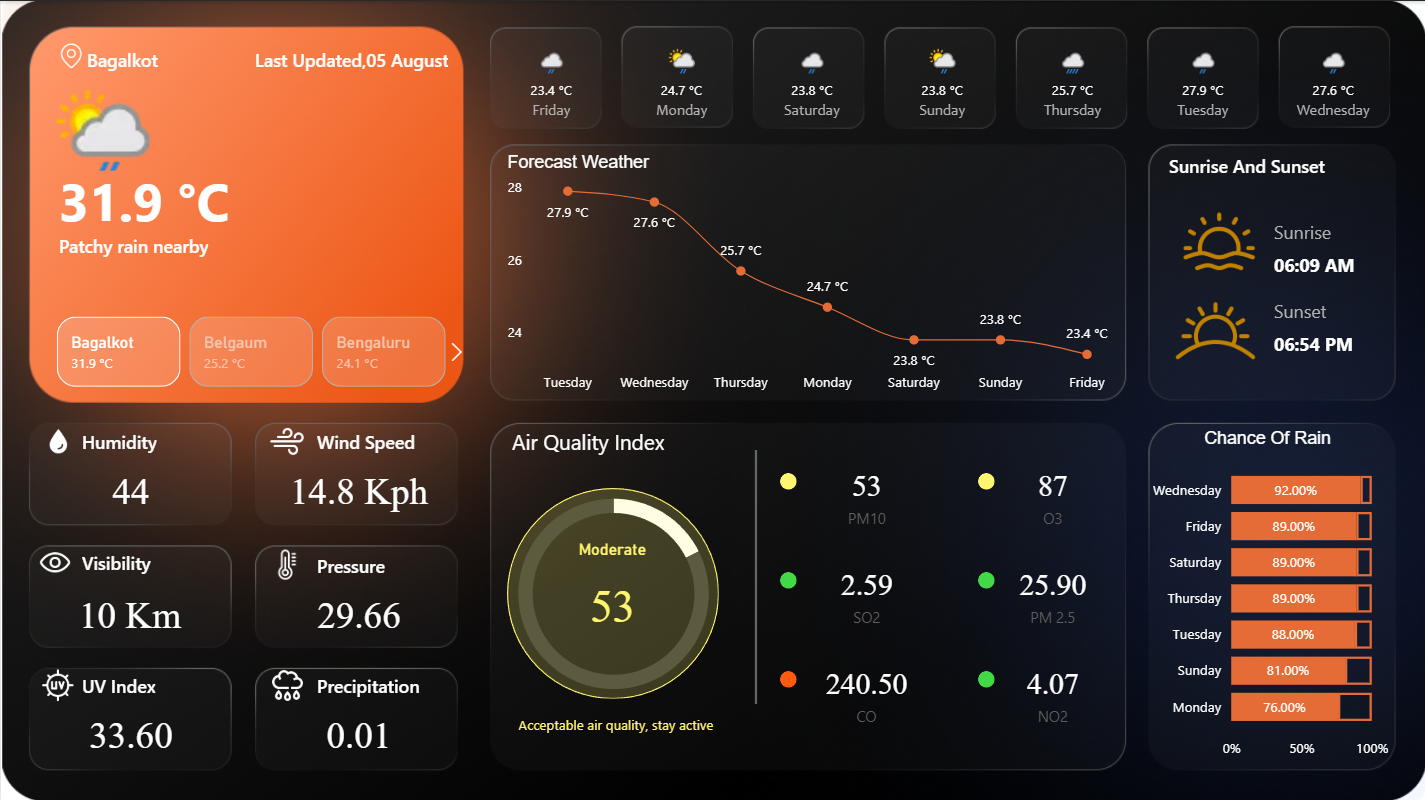

Layout of this report page (visuals, bound fields, positions):
{"tool":"powerbi","page":{"name":"Page 1","canvas":[1280,720],"ordinal":0},"visuals":[{"type":"advancedSlicerVisual","fields":{"Values":["Locations.location.name"]},"box":[25.3,278,399.9,73.6],"z":0},{"type":"shape","box":[51.6,127.5,189,102.2],"z":1000},{"type":"shape","box":[51.6,201.1,292.3,36.3],"z":2000},{"type":"shape","box":[76.9,40.7,173.6,24.2],"z":3000},{"type":"shape","box":[207.7,40.7,194.5,24.2],"z":4000},{"type":"image","box":[34.1,33,57.1,31.9],"z":5000},{"type":"cardVisual","fields":{"Data":["Min(Current.current.condition.icon)"]},"box":[22,49.4,138.4,108.8],"z":6000},{"type":"image","box":[22,483.4,54.9,41.8],"z":7000},{"type":"shape","box":[72.5,383.5,120.9,24.2],"z":8000},{"type":"shape","box":[283.5,383.5,120.9,24.2],"z":9000},{"type":"shape","box":[283.5,494.4,120.9,24.2],"z":10000},{"type":"shape","box":[72.5,492.2,120.9,24.2],"z":11000},{"type":"shape","box":[72.5,602.1,120.9,24.2],"z":12000},{"type":"shape","box":[283.5,602.1,120.9,24.2],"z":13000},{"type":"image","box":[26.4,379.1,50.5,33],"z":14000},{"type":"image","box":[230.7,374.7,52.7,41.8],"z":15000},{"type":"image","box":[225.2,487.8,63.7,37.4],"z":16000},{"type":"image","box":[26.4,594.4,50.5,39.6],"z":17000},{"type":"image","box":[226.3,592.2,62.6,43.9],"z":18000},{"type":"card","fields":{"Values":["Sum(Current.current.humidity)"]},"box":[26.4,407.6,181.3,62.6],"z":19000},{"type":"card","fields":{"Values":["_Measures.Wind_Speed"]},"box":[230.7,407.6,181.3,62.6],"z":20000},{"type":"card","fields":{"Values":["_Measures.Visibility_Speed"]},"box":[25.3,518.6,181.3,62.6],"z":21000},{"type":"card","fields":{"Values":["Sum(Current.current.pressure_in)"]},"box":[230.7,518.6,181.3,62.6],"z":22000},{"type":"card","fields":{"Values":["Sum(Current.current.heatindex_c)"]},"box":[26.4,626.3,181.3,62.6],"z":23000},{"type":"card","fields":{"Values":["Sum(Current.current.precip_in)"]},"box":[230.7,626.3,181.3,62.6],"z":24000},{"type":"advancedSlicerVisual","fields":{"Values":["Forcast_Day.Day_Name"]},"box":[434.4,32.9,821.2,91.5],"z":25000},{"type":"lineChart","title":"Forecast Weather","fields":{"Y":["Sum(Forcast_Day.forecast.forecastday.day.avgtemp_c)"],"Category":["Forcast_Day.Day_Name"]},"box":[449.4,135.6,561.3,224.7],"z":26000},{"type":"shape","box":[1048.4,135.6,190.1,24.7],"z":27000},{"type":"shape","box":[1142.4,215.8,107.9,43.6],"z":28000},{"type":"shape","box":[1142.4,286.1,107.9,43.6],"z":29000},{"type":"shape","box":[1142.4,186.1,107.9,43.6],"z":30000},{"type":"shape","box":[1142.4,256.4,107.9,43.6],"z":31000},{"type":"image","box":[1056.3,178.2,74.2,75.2],"z":32000},{"type":"image","box":[1037.5,241.5,104.9,109.9],"z":33000},{"type":"hundredPercentStackedBarChart","title":"Chance Of Rain","fields":{"Y":["Sum(Forecast_Day.forecast.forecastday.day.daily_chance_of_rain)","_Measures.Left_Value_Rain"],"Category":["Forecast_Day.Day_Name"]},"box":[1023.5,382.9,227.2,305.7],"z":34000},{"type":"shape","box":[459.1,382.9,219,24.6],"z":35000},{"type":"card","fields":{"Values":["Sum(Current.current.air_quality.pm10)"]},"box":[729.6,402.9,94.9,80.8],"z":36000},{"type":"card","fields":{"Values":["Sum(Current.current.air_quality.o3)"]},"box":[897.1,402.9,94.9,80.8],"z":37000},{"type":"card","fields":{"Values":["Sum(Current.current.air_quality.pm2_5)"]},"box":[897.1,491.9,94.9,80.8],"z":38000},{"type":"card","fields":{"Values":["Sum(Current.current.air_quality.no2)"]},"box":[897.1,580.9,94.9,80.8],"z":39000},{"type":"card","fields":{"Values":["Sum(Current.current.air_quality.so2)"]},"box":[729.6,491.9,94.9,80.8],"z":40000},{"type":"card","fields":{"Values":["Sum(Current.current.air_quality.co)"]},"box":[719,580.9,115.9,80.8],"z":41000},{"type":"shape","box":[699.1,423.9,15,15],"z":42000},{"type":"shape","box":[699.1,512.9,15,15],"z":43000},{"type":"shape","box":[699.1,601.9,15,15],"z":44000},{"type":"shape","box":[877.1,423.9,15,15],"z":45000},{"type":"shape","box":[877.1,512.9,15,15],"z":46000},{"type":"shape","box":[877.1,601.9,15,15],"z":47000},{"type":"shape","box":[568,402.9,219,228.4],"z":48000},{"type":"donutChart","fields":{"Y":["Sum(Current.current.air_quality.pm10)","_Measures.Left_Value_PM10"]},"box":[438,419.2,223.7,226],"z":49000},{"type":"card","fields":{"Values":["Sum(Current.current.air_quality.pm10)"]},"box":[501.8,484.8,94.3,97],"z":50000},{"type":"shape","box":[454.3,437.2,190.3,189.4],"z":51000},{"type":"shape","box":[442.6,637.4,219.1,24.2],"z":52000}]}

Visuals, with their boxes in screenshot pixels (x1, y1, x2, y2), scaled from the page's 1280x720 canvas onto the 1425x800 screenshot:
advancedSlicerVisual - Locations.location.name: bbox=(28, 309, 473, 391)
shape: bbox=(57, 142, 268, 255)
shape: bbox=(57, 223, 383, 264)
shape: bbox=(86, 45, 279, 72)
shape: bbox=(231, 45, 448, 72)
image: bbox=(38, 37, 102, 72)
cardVisual - Min(Current.current.condition.icon): bbox=(24, 55, 179, 176)
image: bbox=(24, 537, 86, 584)
shape: bbox=(81, 426, 215, 453)
shape: bbox=(316, 426, 450, 453)
shape: bbox=(316, 549, 450, 576)
shape: bbox=(81, 547, 215, 574)
shape: bbox=(81, 669, 215, 696)
shape: bbox=(316, 669, 450, 696)
image: bbox=(29, 421, 86, 458)
image: bbox=(257, 416, 316, 463)
image: bbox=(251, 542, 322, 584)
image: bbox=(29, 660, 86, 704)
image: bbox=(252, 658, 322, 707)
card - Sum(Current.current.humidity): bbox=(29, 453, 231, 522)
card - _Measures.Wind_Speed: bbox=(257, 453, 459, 522)
card - _Measures.Visibility_Speed: bbox=(28, 576, 230, 646)
card - Sum(Current.current.pressure_in): bbox=(257, 576, 459, 646)
card - Sum(Current.current.heatindex_c): bbox=(29, 696, 231, 765)
card - Sum(Current.current.precip_in): bbox=(257, 696, 459, 765)
advancedSlicerVisual - Forcast_Day.Day_Name: bbox=(484, 37, 1398, 138)
"Forecast Weather" lineChart: bbox=(500, 151, 1125, 400)
shape: bbox=(1167, 151, 1379, 178)
shape: bbox=(1272, 240, 1392, 288)
shape: bbox=(1272, 318, 1392, 366)
shape: bbox=(1272, 207, 1392, 255)
shape: bbox=(1272, 285, 1392, 333)
image: bbox=(1176, 198, 1259, 282)
image: bbox=(1155, 268, 1272, 390)
"Chance Of Rain" hundredPercentStackedBarChart: bbox=(1139, 425, 1392, 765)
shape: bbox=(511, 425, 755, 453)
card - Sum(Current.current.air_quality.pm10): bbox=(812, 448, 918, 537)
card - Sum(Current.current.air_quality.o3): bbox=(999, 448, 1104, 537)
card - Sum(Current.current.air_quality.pm2_5): bbox=(999, 547, 1104, 636)
card - Sum(Current.current.air_quality.no2): bbox=(999, 645, 1104, 735)
card - Sum(Current.current.air_quality.so2): bbox=(812, 547, 918, 636)
card - Sum(Current.current.air_quality.co): bbox=(800, 645, 929, 735)
shape: bbox=(778, 471, 795, 488)
shape: bbox=(778, 570, 795, 587)
shape: bbox=(778, 669, 795, 685)
shape: bbox=(976, 471, 993, 488)
shape: bbox=(976, 570, 993, 587)
shape: bbox=(976, 669, 993, 685)
shape: bbox=(632, 448, 876, 701)
donutChart - Sum(Current.current.air_quality.pm10) x _Measures.Left_Value_PM10: bbox=(488, 466, 737, 717)
card - Sum(Current.current.air_quality.pm10): bbox=(559, 539, 664, 646)
shape: bbox=(506, 486, 718, 696)
shape: bbox=(493, 708, 737, 735)
